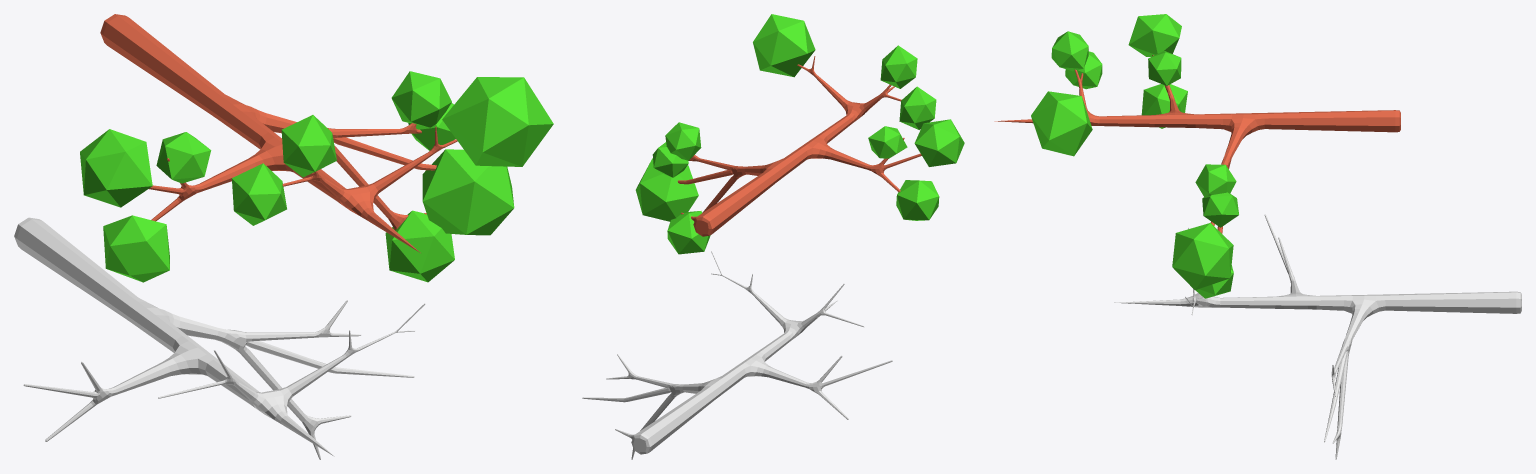
Rendered from trees 3.fbx.
3 views of the same model, side by side, from view 1: azimuth 30°, elevation 25°; view 2: azimuth 150°, elevation 25°; view 3: azimuth 270°, elevation 25° (orthographic). The views are drawn at different scales.
Visible parts, largest first — view 1: tree 7 LOD_0, Tree 7 Dead LOD_0; view 2: tree 7 LOD_0, Tree 7 Dead LOD_0; view 3: tree 7 LOD_0, Tree 7 Dead LOD_0.
Boxes of the visible parts, x1=… form: tree 7 LOD_0: x1=80, y1=14, x2=553, y2=282; Tree 7 Dead LOD_0: x1=14, y1=217, x2=425, y2=459; tree 7 LOD_0: x1=635, y1=14, x2=964, y2=254; Tree 7 Dead LOD_0: x1=582, y1=251, x2=892, y2=459; tree 7 LOD_0: x1=994, y1=14, x2=1400, y2=298; Tree 7 Dead LOD_0: x1=1114, y1=214, x2=1521, y2=459.
Size of what is drawn, in the model's own units: 1949 by 2188 by 2906.
